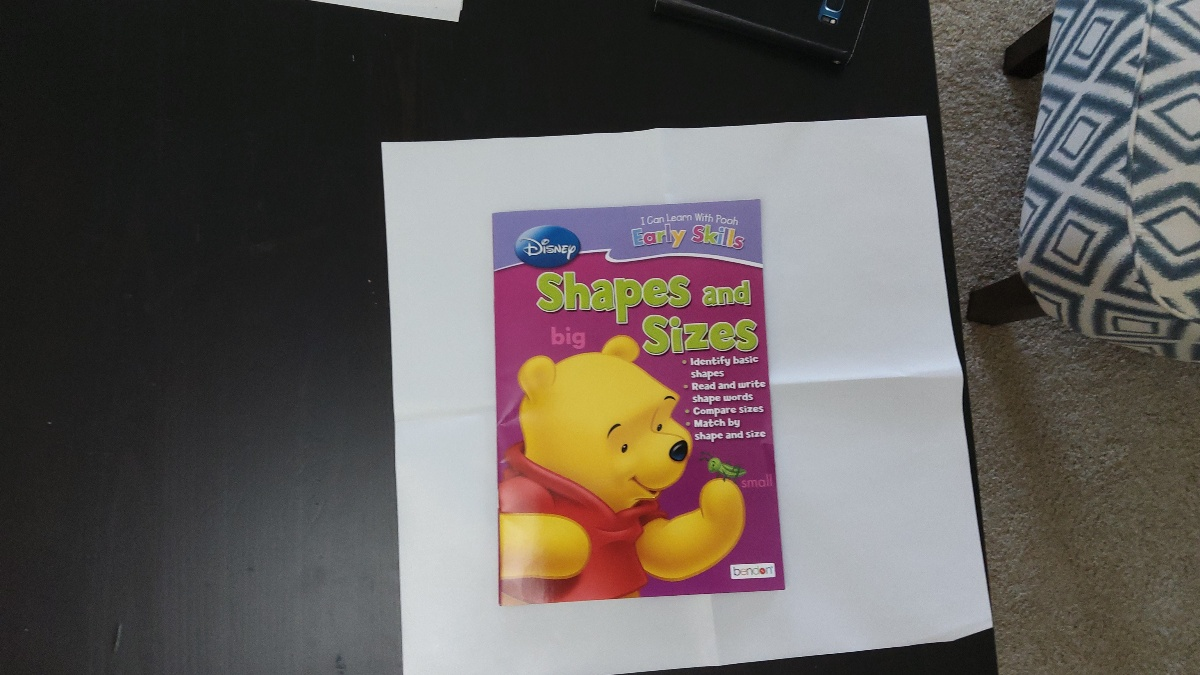book: (502, 213, 777, 591)
